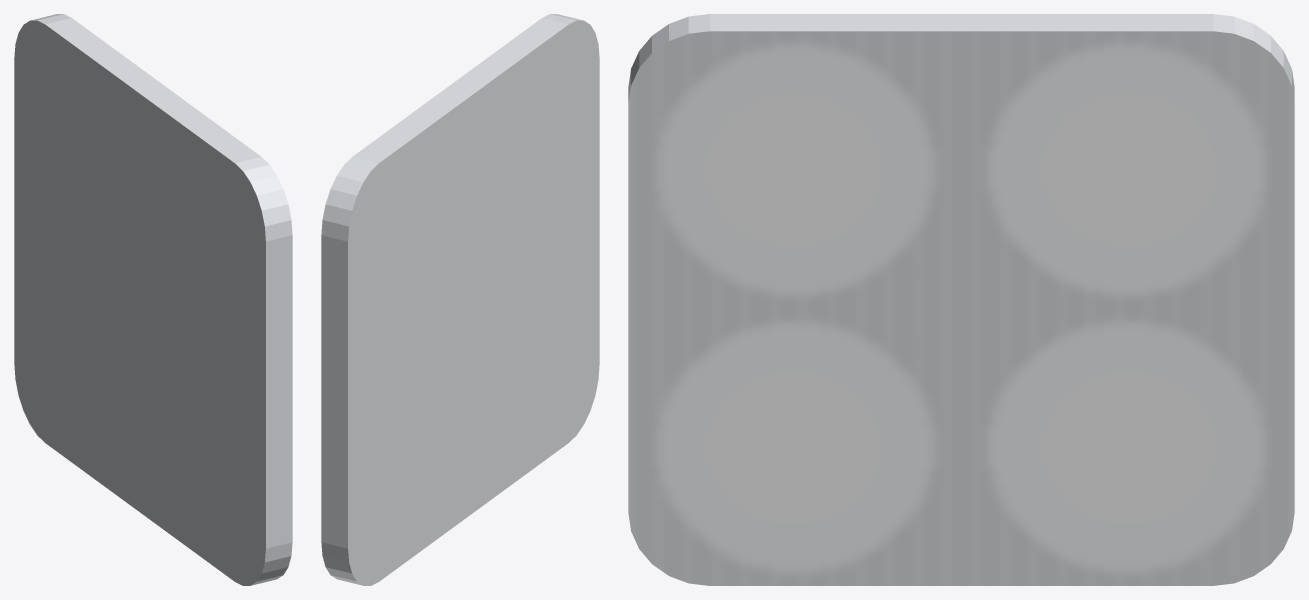
Rendered from tail_reverse_lens.dae.
3 views of the same model, side by side, from view 1: azimuth 30°, elevation 25°; view 2: azimuth 150°, elevation 25°; view 3: azimuth 270°, elevation 25° (orthographic). The views are drawn at different scales.
Parts seen in each view (by area): view 1: n; view 2: n; view 3: n.
Part boxes in pixels (bbox=[...]): n: bbox=[14, 14, 292, 585]; n: bbox=[321, 14, 599, 585]; n: bbox=[628, 14, 1294, 585].
Bounding box in the file's own units: 0.002 × 0.0327 × 0.03.
1 material, 1 textured.
